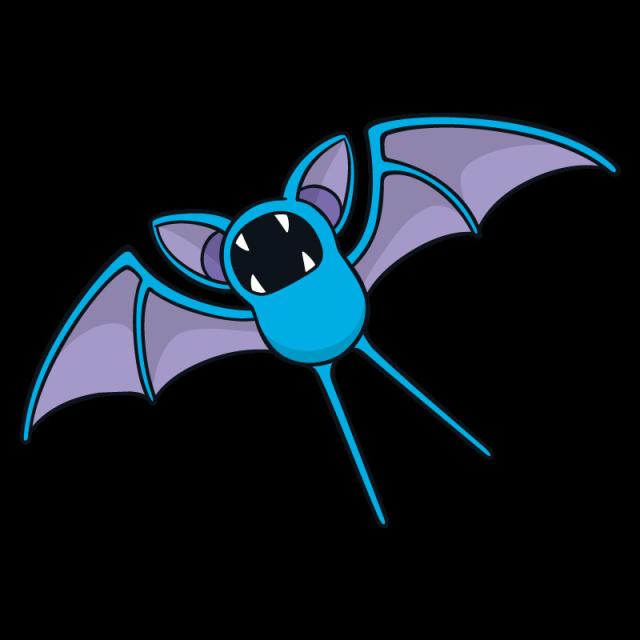Zubat: (132, 134, 489, 419)
